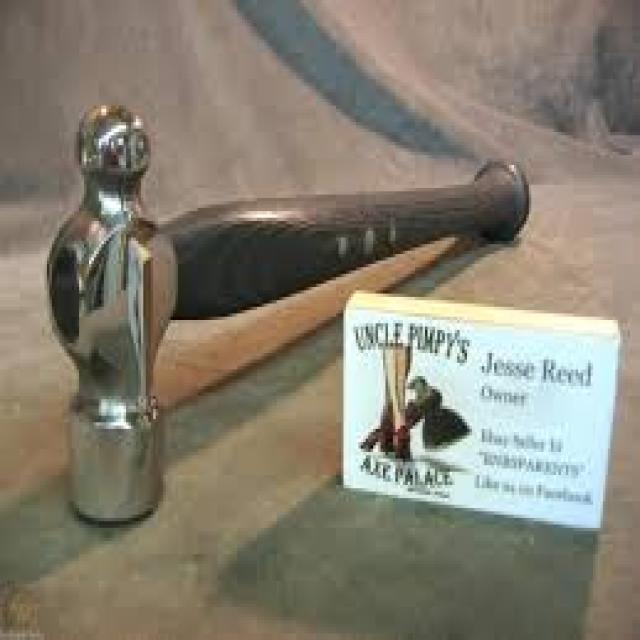hammer: (43, 94, 533, 533)
